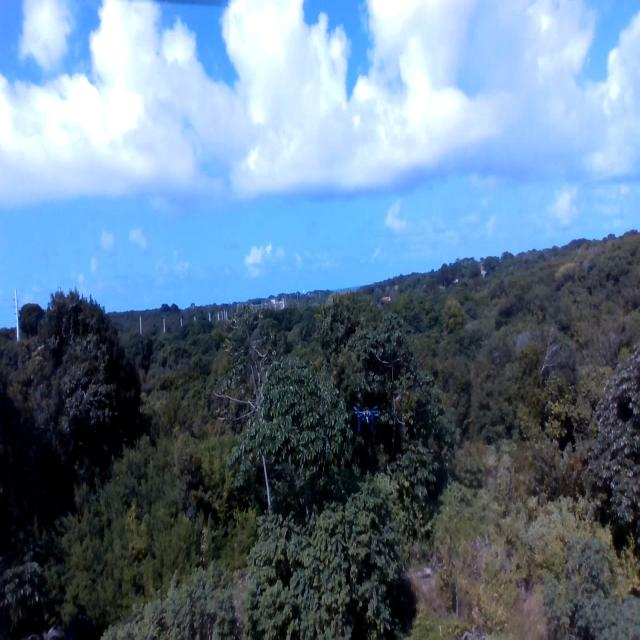-uav-: (347, 390, 389, 447)
